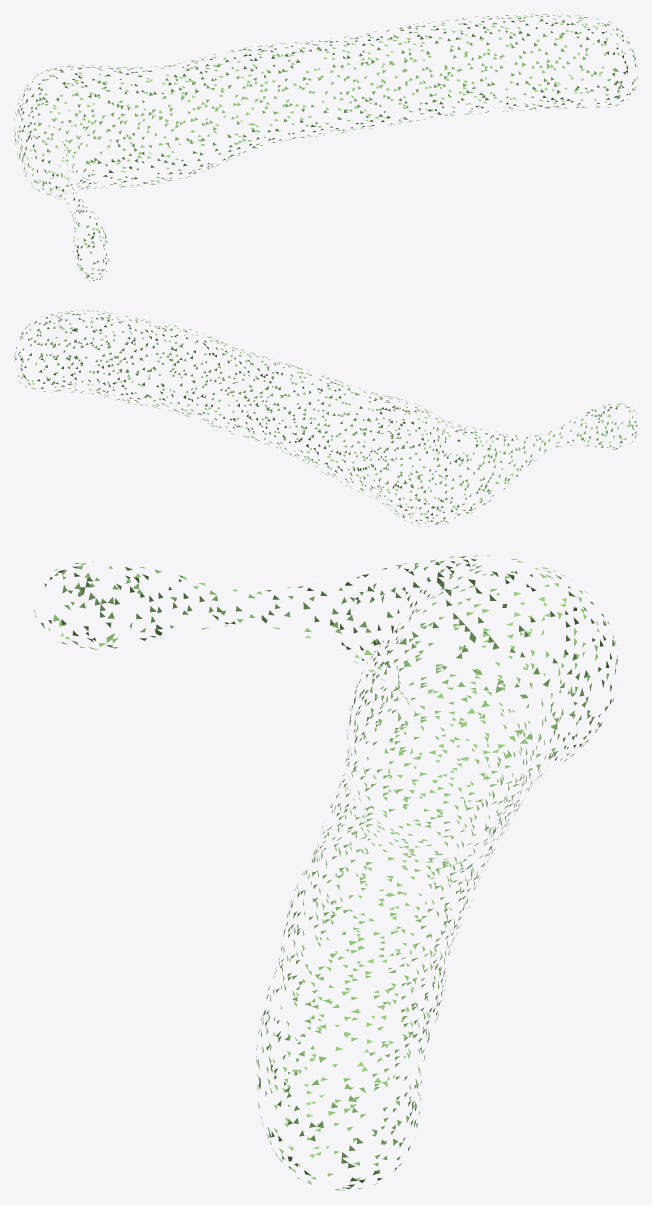
The model's file is morph_014.glb.
3 views of the same model, one above another, from view 1: azimuth 30°, elevation 25°; view 2: azimuth 150°, elevation 25°; view 3: azimuth 270°, elevation 25° (orthographic). The views are drawn at different scales.
Bounding box in the file's own units: 122 × 21.58 × 56.31.
